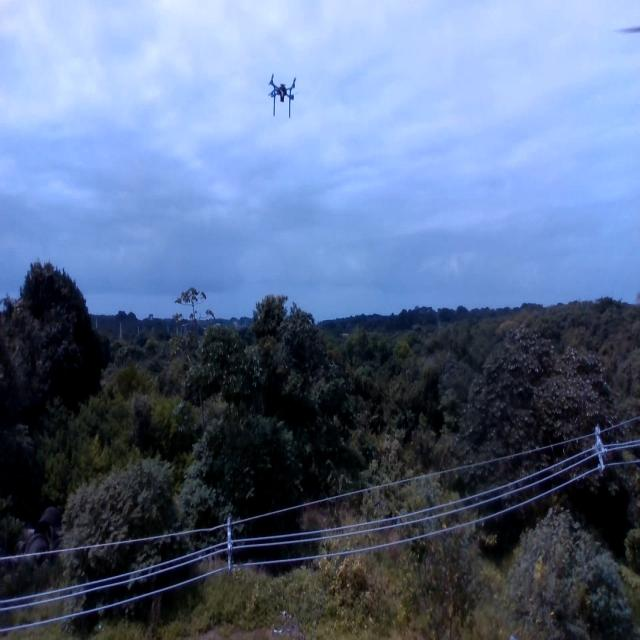-uav-: (256, 66, 307, 125)
